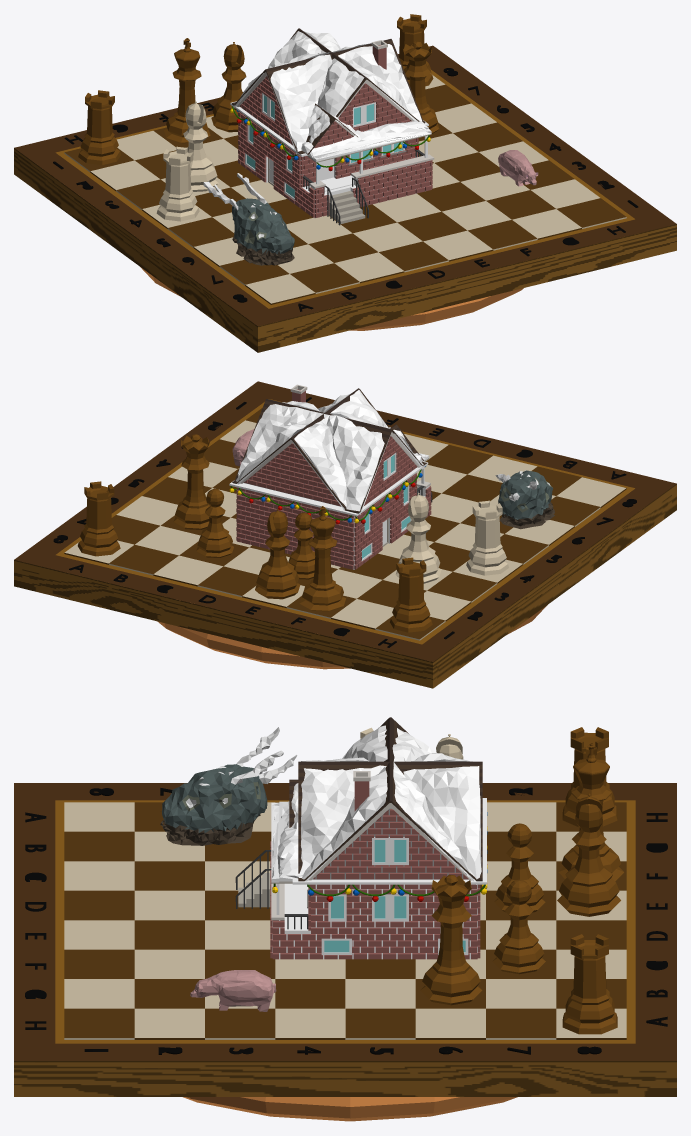
3 renders of one model, top to bottom at view 1: azimuth 30°, elevation 25°; view 2: azimuth 150°, elevation 25°; view 3: azimuth 270°, elevation 25°, orthographic. The views are drawn at different scales.
Visible parts, largest first — view 1: Cube.002, Cube.1419, OBJRANDOM_METEORITE, UNDERGROUND_PIZZA, ANIMAL_HIPOPOTAMO; view 2: Cube.002, Cube.1419, OBJRANDOM_METEORITE, UNDERGROUND_PIZZA; view 3: Cube.002, Cube.1419, OBJRANDOM_METEORITE, UNDERGROUND_PIZZA, ANIMAL_HIPOPOTAMO.
Part boxes in pixels (x1,y1,x2,y2): Cube.002: (14, 14, 676, 352); Cube.1419: (230, 28, 434, 225); OBJRANDOM_METEORITE: (203, 173, 294, 265); UNDERGROUND_PIZZA: (140, 267, 523, 330); ANIMAL_HIPOPOTAMO: (498, 150, 538, 186); Cube.002: (14, 381, 676, 688); Cube.1419: (229, 384, 432, 569); OBJRANDOM_METEORITE: (495, 470, 554, 529); UNDERGROUND_PIZZA: (157, 605, 547, 669); Cube.002: (14, 727, 676, 1096); Cube.1419: (235, 717, 487, 959); OBJRANDOM_METEORITE: (160, 727, 297, 845); UNDERGROUND_PIZZA: (183, 1097, 517, 1121); ANIMAL_HIPOPOTAMO: (190, 970, 276, 1011).
Bounding box in the file's own units: 3981 × 1696 × 4012.
37 materials, 2 textured.
